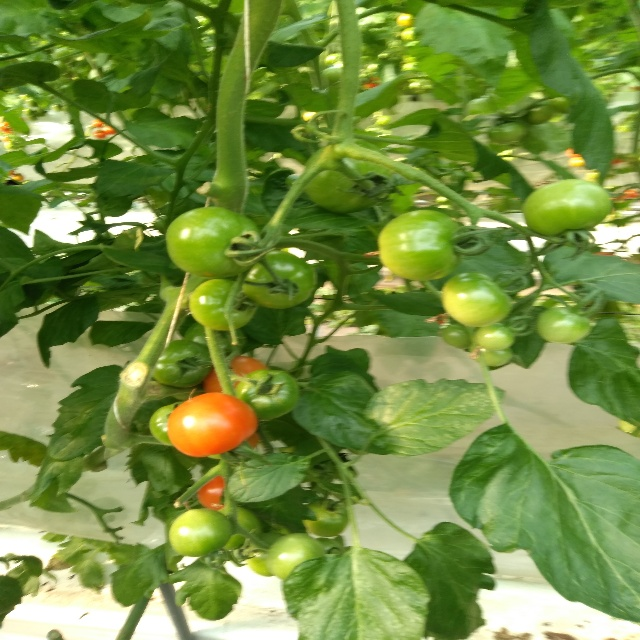l_fully_ripened: (197, 476, 226, 510)
l_green: (165, 206, 263, 279), (303, 142, 394, 214), (376, 210, 462, 281), (522, 179, 612, 237), (240, 249, 317, 310), (441, 272, 512, 328), (188, 279, 258, 332), (234, 369, 298, 419), (169, 509, 233, 557), (152, 338, 213, 388), (268, 532, 326, 582), (183, 321, 244, 356), (536, 306, 590, 344), (217, 506, 262, 550), (245, 533, 288, 577), (302, 499, 350, 538), (149, 401, 185, 446), (469, 343, 514, 368), (474, 325, 514, 350), (443, 323, 479, 349)
l_half_ripened: (167, 393, 258, 458), (203, 355, 269, 397)
